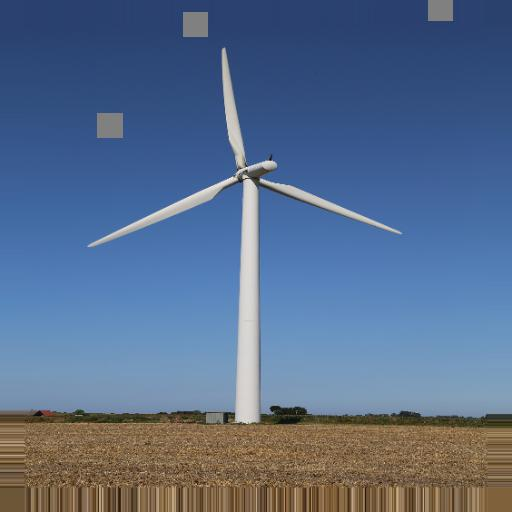wind turbine: (83, 44, 403, 419)
